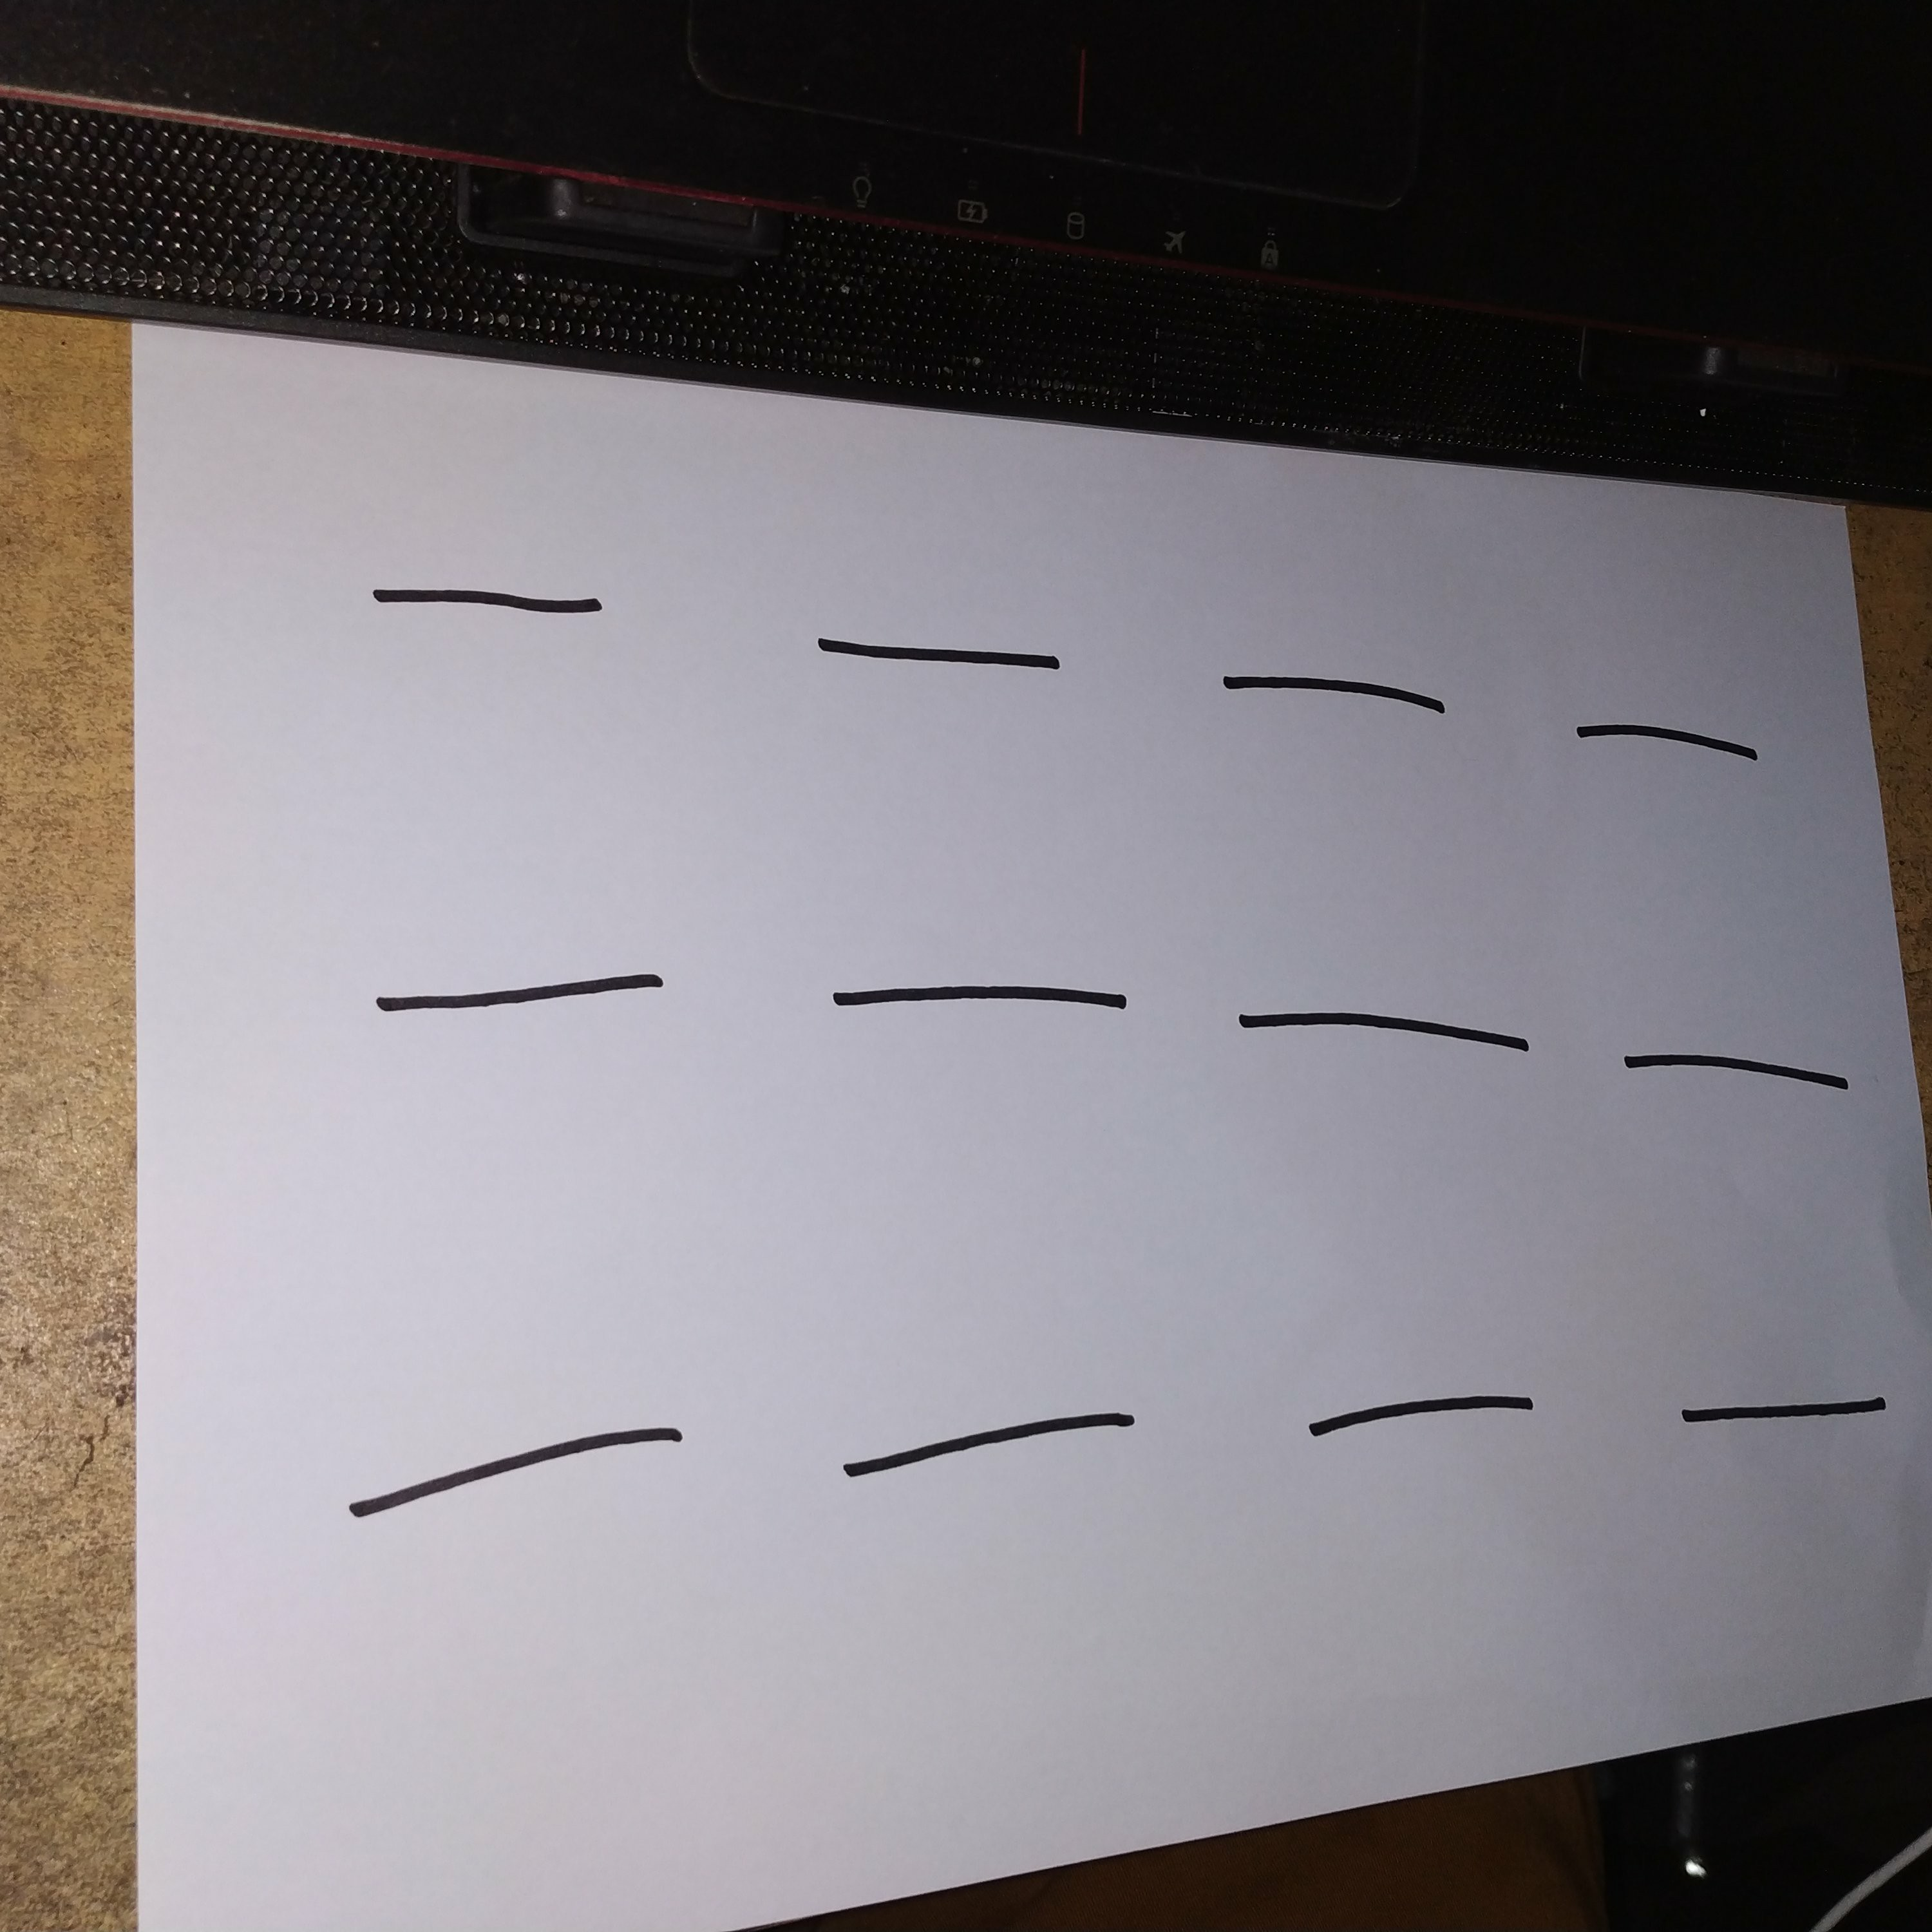min: (323, 1422, 715, 1528), (1188, 634, 1484, 753), (823, 1397, 1173, 1488), (1211, 987, 1559, 1077), (339, 560, 632, 653), (353, 952, 687, 1034), (790, 607, 1090, 692), (813, 958, 1145, 1034), (1287, 1375, 1565, 1457), (1561, 687, 1791, 786), (1600, 1028, 1885, 1106), (1654, 1385, 1922, 1448)
